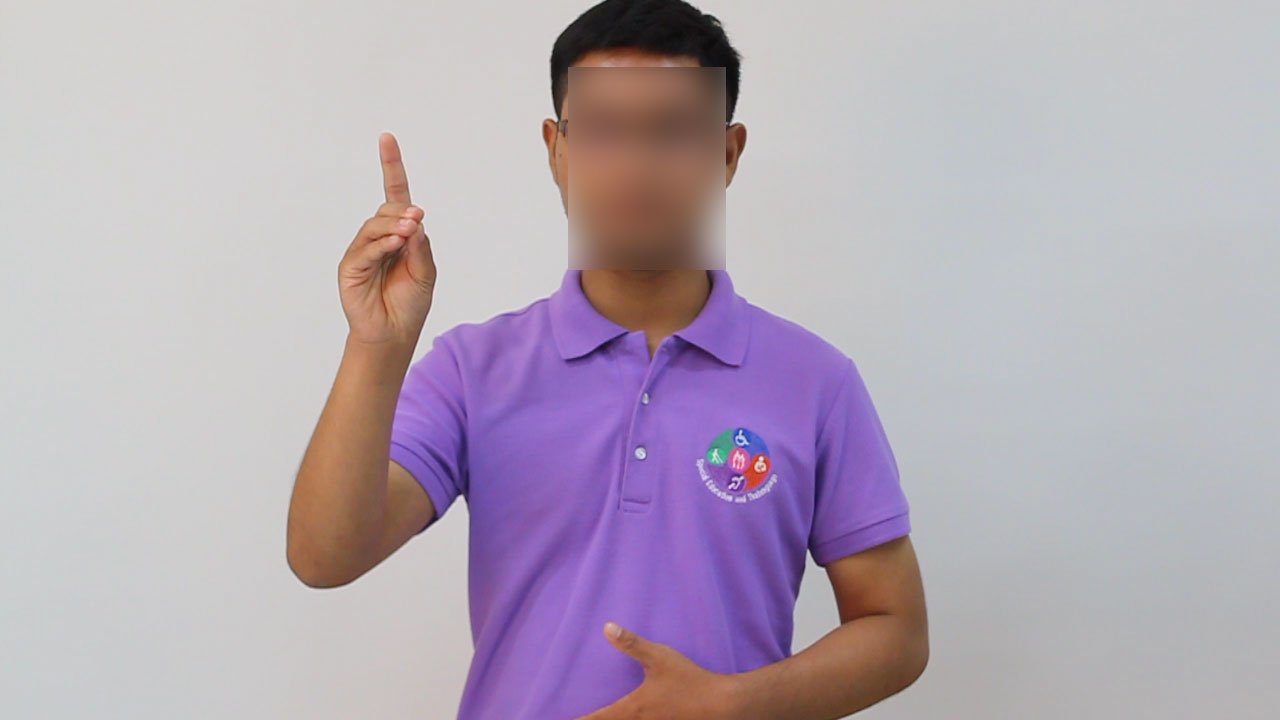dor: (330, 127, 445, 361)
